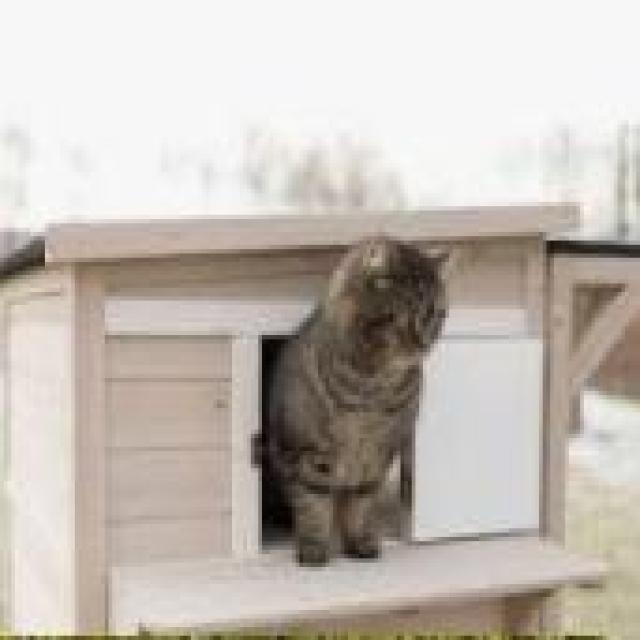Gato: (258, 219, 457, 567)
